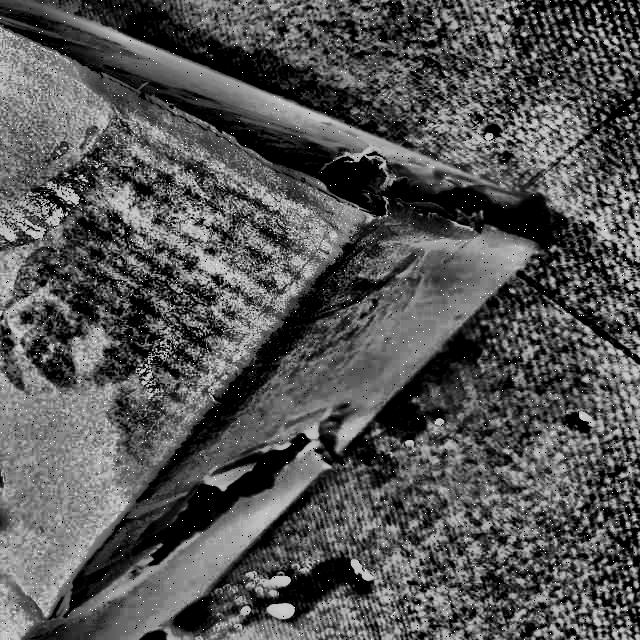box: (1, 1, 548, 639)
hole: (138, 447, 341, 558), (391, 174, 554, 255)
wet: (43, 121, 367, 415)
